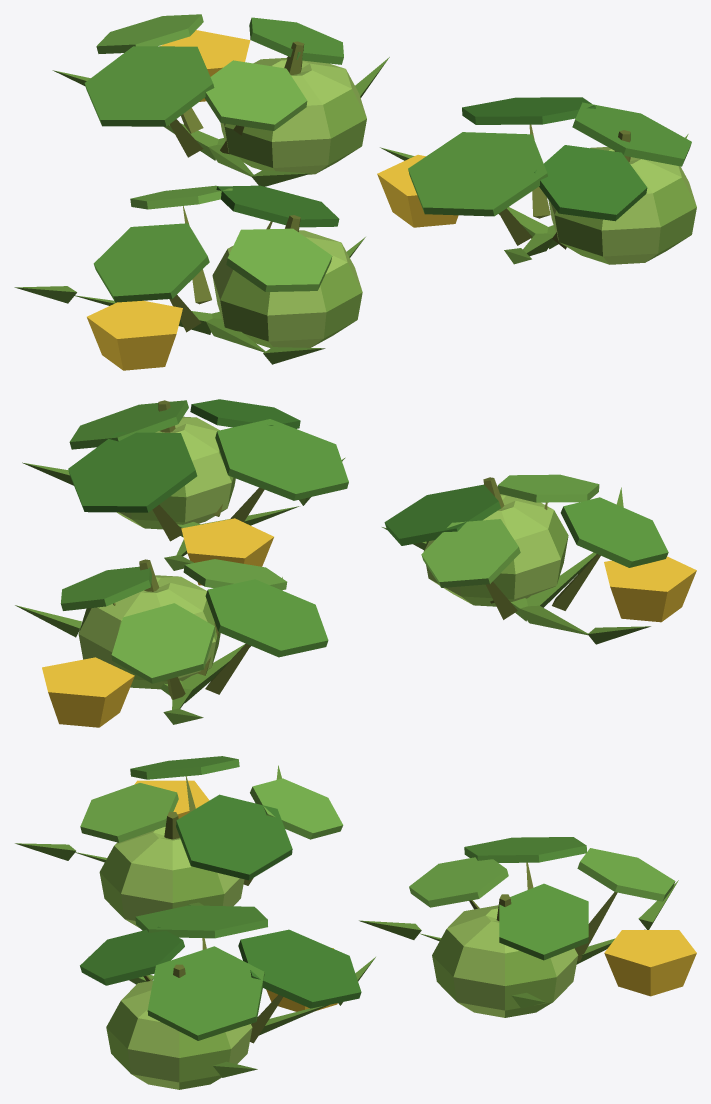
The model's file is pumpkin-3.glb.
3 renders of one model, top to bottom at view 1: azimuth 30°, elevation 25°; view 2: azimuth 150°, elevation 25°; view 3: azimuth 270°, elevation 25°, orthographic. The views are drawn at different scales.
Parts seen in each view (by area): view 1: pumpkin-3; view 2: pumpkin-3; view 3: pumpkin-3.
Part boxes in pixels (x1,y1,x2,y2): pumpkin-3: [14, 14, 696, 370]; pumpkin-3: [15, 399, 696, 727]; pumpkin-3: [15, 756, 696, 1089].
Size of the model in its own units: 0.7397 by 0.1336 by 0.7002.
Materials: 1 (1 with a texture image).
